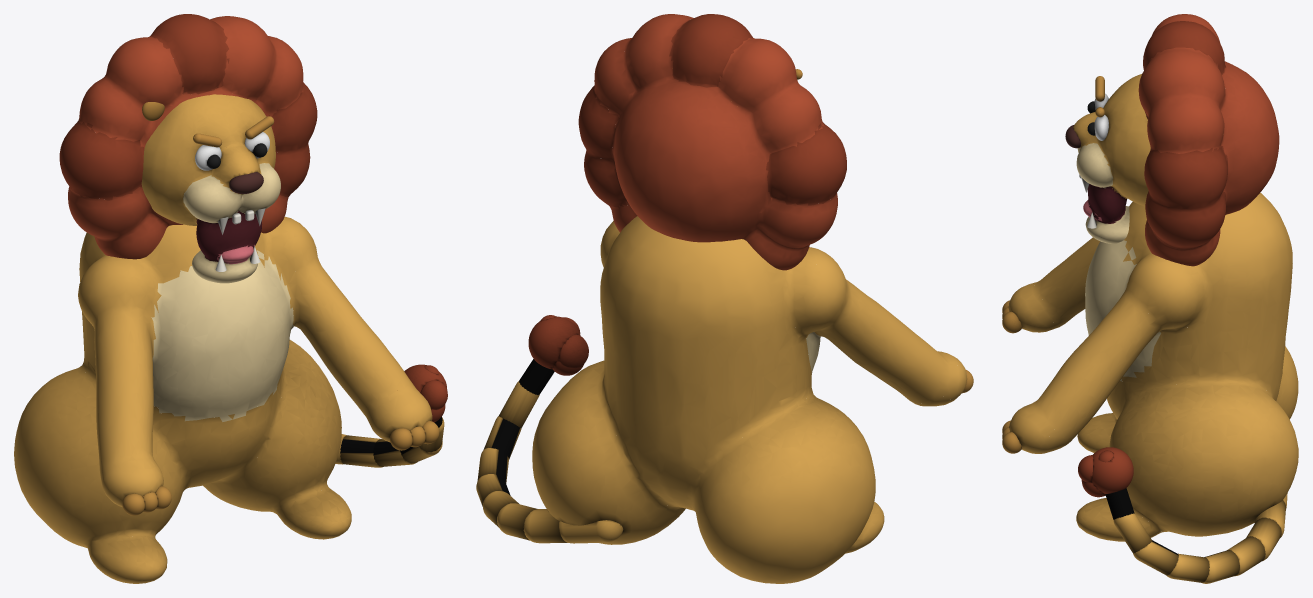
File: jag-ar-hungrig.glb
3 renders of one model, left to right at view 1: azimuth 30°, elevation 25°; view 2: azimuth 150°, elevation 25°; view 3: azimuth 270°, elevation 25°, orthographic. The views are drawn at different scales.
Parts seen in each view (by area): view 1: leao__r0, juba__r0, cabeca__r0, leao__r8, leao__r9, leao__r16, leao__r13, cabeca__r9; view 2: leao__r0, juba__r0, leao__r13, leao__r4, leao__r5, leao__r11, leao__r6, leao__r10, leao__r15, leao__r9, leao__r12; view 3: leao__r0, juba__r0, cabeca__r0, leao__r13, leao__r10, leao__r9, leao__r11, leao__r8, leao__r7, leao__r6, leao__r12, leao__r5.
Part boxes in pixels (<box>): leao__r0: <box>14,216,432,583</box>; juba__r0: <box>59,14,317,259</box>; cabeca__r0: <box>141,94,280,283</box>; leao__r8: <box>340,435,383,467</box>; leao__r9: <box>373,439,417,466</box>; leao__r16: <box>420,380,447,409</box>; leao__r13: <box>404,364,447,392</box>; cabeca__r9: <box>229,172,263,193</box>; leao__r0: <box>532,216,967,583</box>; juba__r0: <box>578,14,846,270</box>; leao__r13: <box>528,316,580,369</box>; leao__r4: <box>559,520,623,543</box>; leao__r5: <box>523,509,567,543</box>; leao__r11: <box>499,381,539,428</box>; leao__r6: <box>497,503,537,540</box>; leao__r10: <box>483,416,521,459</box>; leao__r15: <box>558,334,588,367</box>; leao__r9: <box>477,448,508,483</box>; leao__r12: <box>519,359,554,394</box>; leao__r0: <box>1009,192,1298,541</box>; juba__r0: <box>1138,14,1279,266</box>; cabeca__r0: <box>1073,74,1150,243</box>; leao__r13: <box>1091,447,1133,493</box>; leao__r10: <box>1133,540,1178,575</box>; leao__r9: <box>1167,553,1209,582</box>; leao__r11: <box>1113,513,1152,553</box>; leao__r8: <box>1201,550,1239,583</box>; leao__r7: <box>1227,536,1265,576</box>; leao__r6: <box>1246,517,1281,560</box>; leao__r12: <box>1105,488,1134,519</box>; leao__r5: <box>1254,500,1285,537</box>.
Size of the model in its own units: 2.11 by 2.63 by 1.5.
